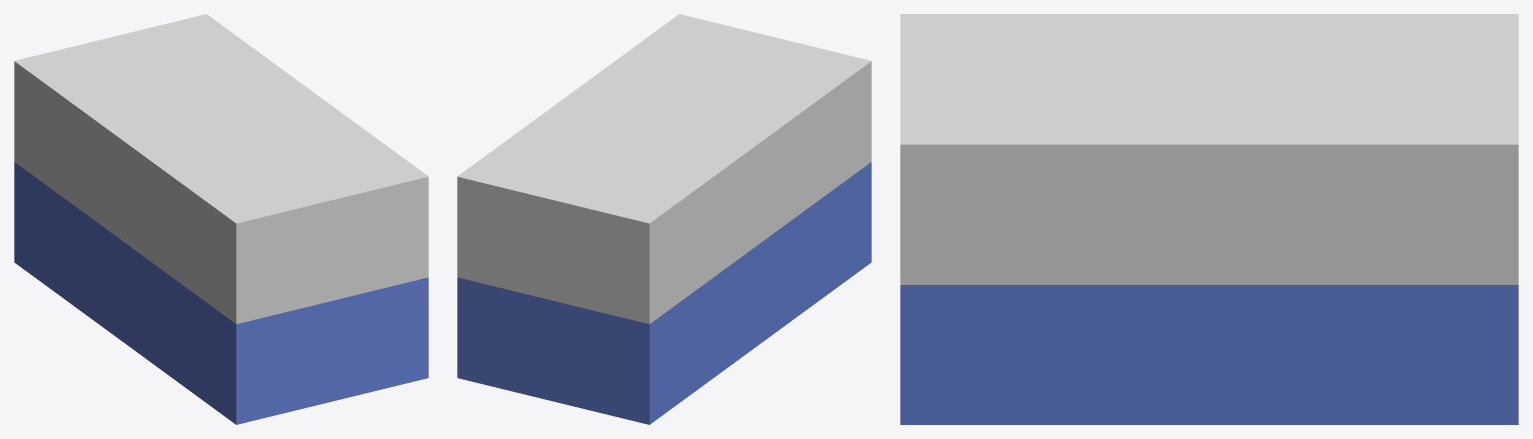
Rendered from Curved Platform.fbx.
3 views of the same model, side by side, from view 1: azimuth 30°, elevation 25°; view 2: azimuth 150°, elevation 25°; view 3: azimuth 270°, elevation 25° (orthographic). The views are drawn at different scales.
Parts seen in each view (by area): view 1: Cube; view 2: Cube; view 3: Cube.
Boxes of the visible parts, left/top/right/bottom form: Cube: left=14, top=14, right=428, bottom=424; Cube: left=457, top=14, right=871, bottom=424; Cube: left=900, top=14, right=1518, bottom=424.
Size of the model in its own units: 2 by 2 by 4.
